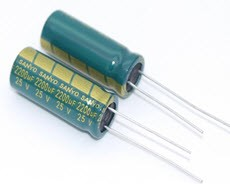capacitor: (33, 4, 179, 101), (7, 43, 121, 162)
